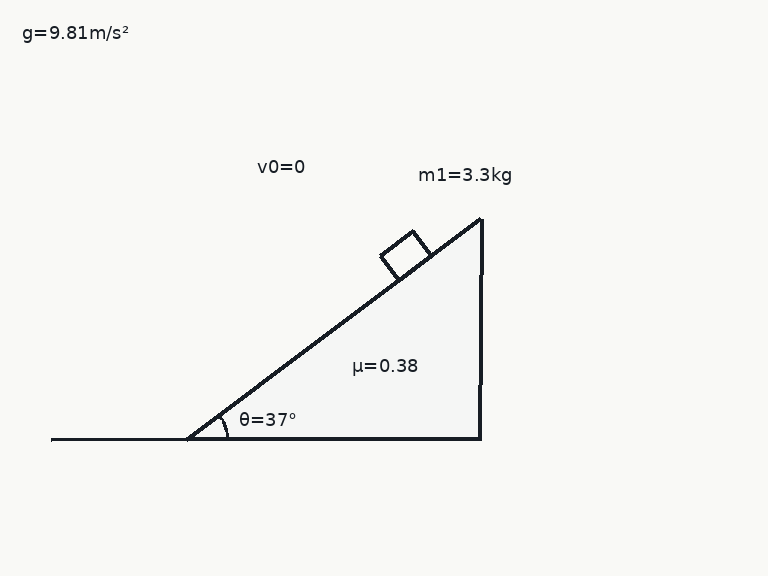block: (377, 229, 433, 282)
ramp: (185, 216, 483, 441)
